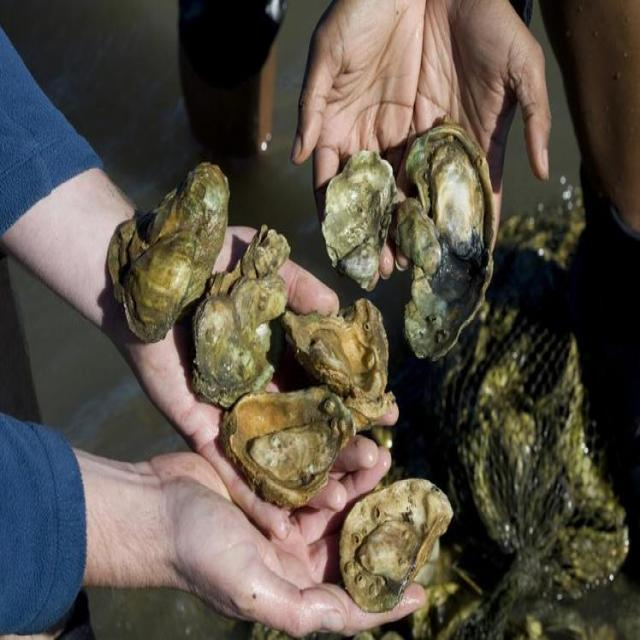Oyster- Indeterminate: (105, 162, 230, 345), (194, 229, 291, 410), (322, 152, 398, 266), (397, 199, 444, 288)
Oyster-Open: (384, 125, 496, 362), (228, 389, 369, 504), (341, 478, 453, 614), (278, 302, 390, 402)
